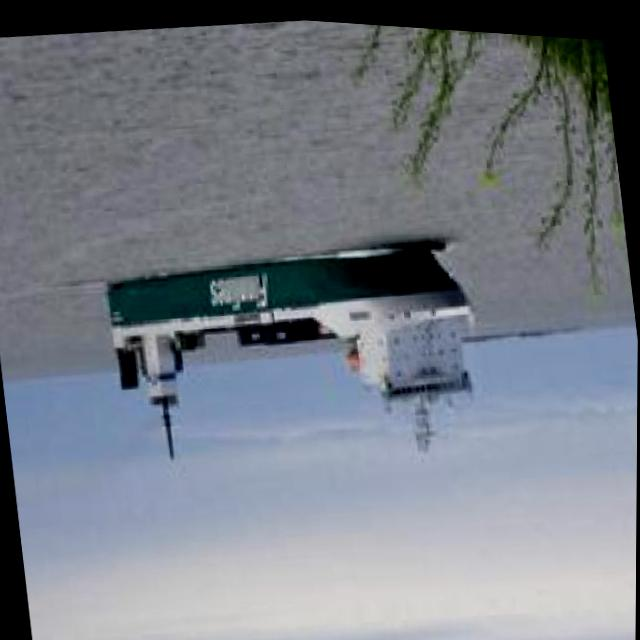ship2: (105, 234, 475, 459)
